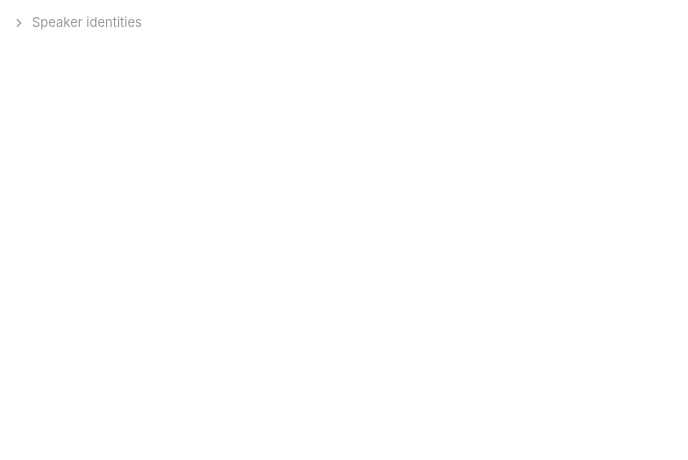
identity controls › requires explicit individual scope for channel labels and preserves imported provenance
The width and height of the screenshot is (688, 460).
Click the button "Speaker identities": point(77, 23) [12, 13, 142, 33]
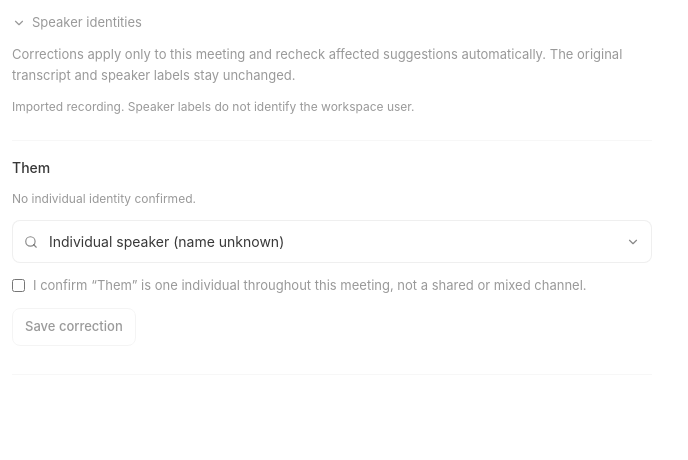
Now the text "Imported recording" is shown, box [12, 99, 415, 114]
Now the text "original transcript" is shown, box [12, 46, 622, 83]
Click the dropdown labelled "Them": point(332, 242) [12, 220, 652, 263]
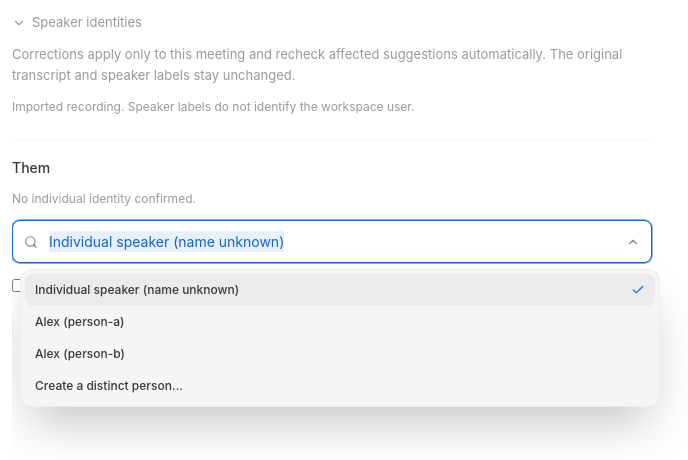
Click the option "Alex (person-a)": point(80, 322) [25, 306, 655, 338]
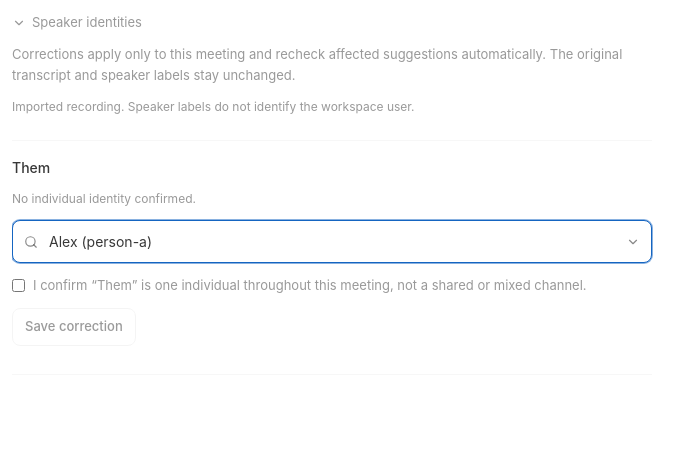
Now the button "Save correction" is disabled, box [12, 308, 136, 346]
Click the checkbox: point(18, 286) [12, 279, 25, 292]
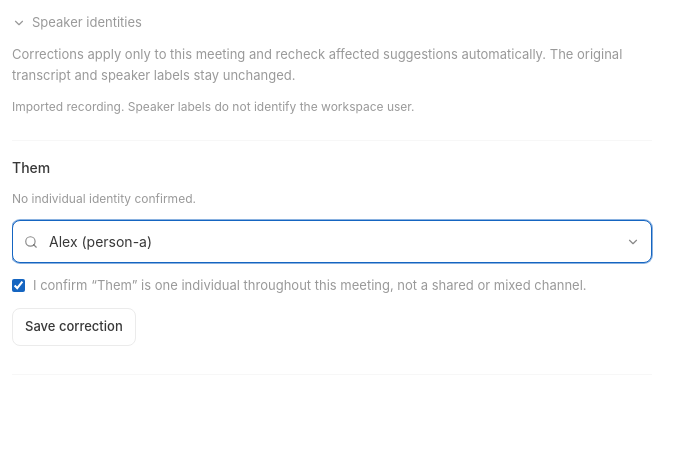
Now the button "Save correction" is shown
Click the button "Save correction": point(74, 327) [12, 308, 136, 346]
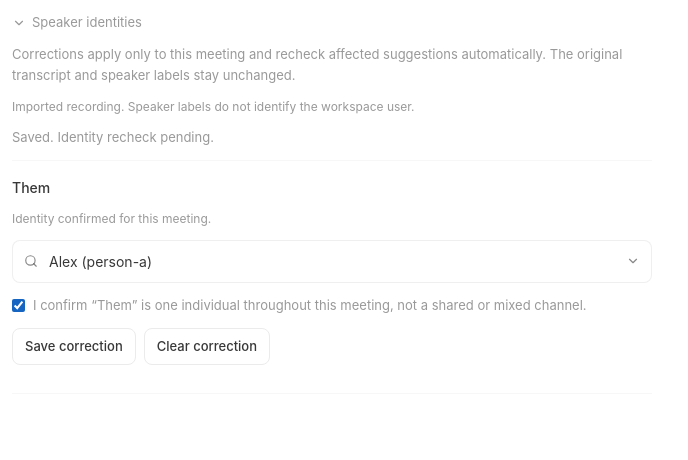
Now the text "recheck pending" is shown, box [12, 129, 214, 145]
